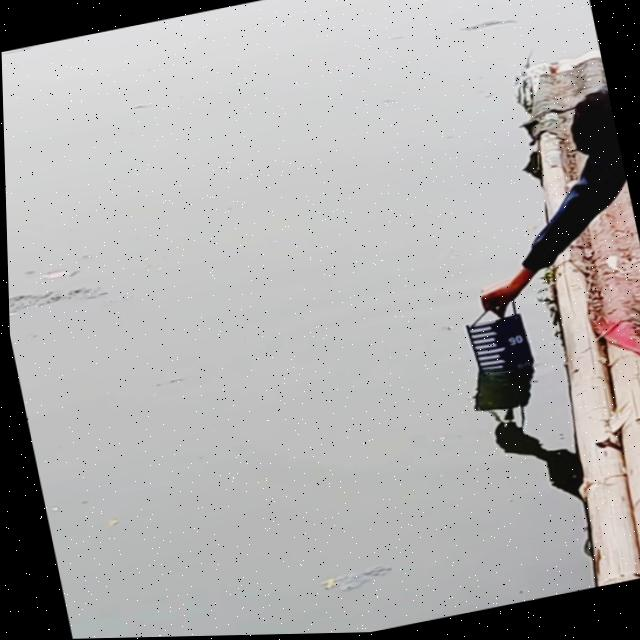water-meter: (452, 303, 554, 393)
